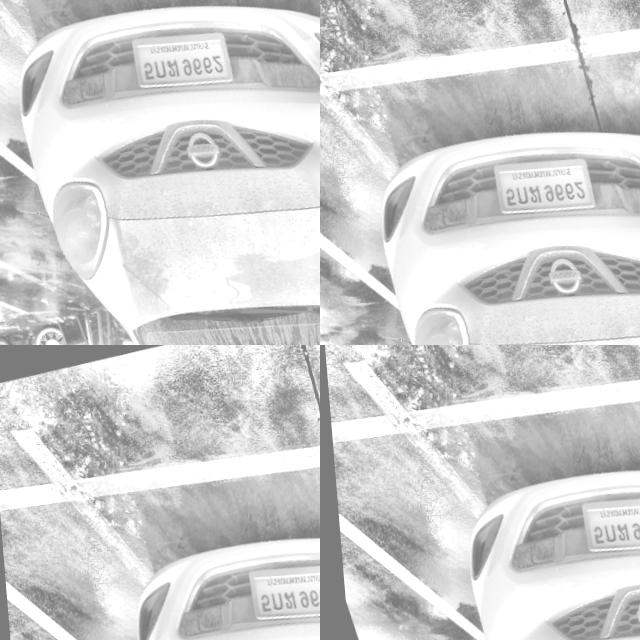license-plate: (565, 476, 640, 566), (130, 318, 150, 338)
